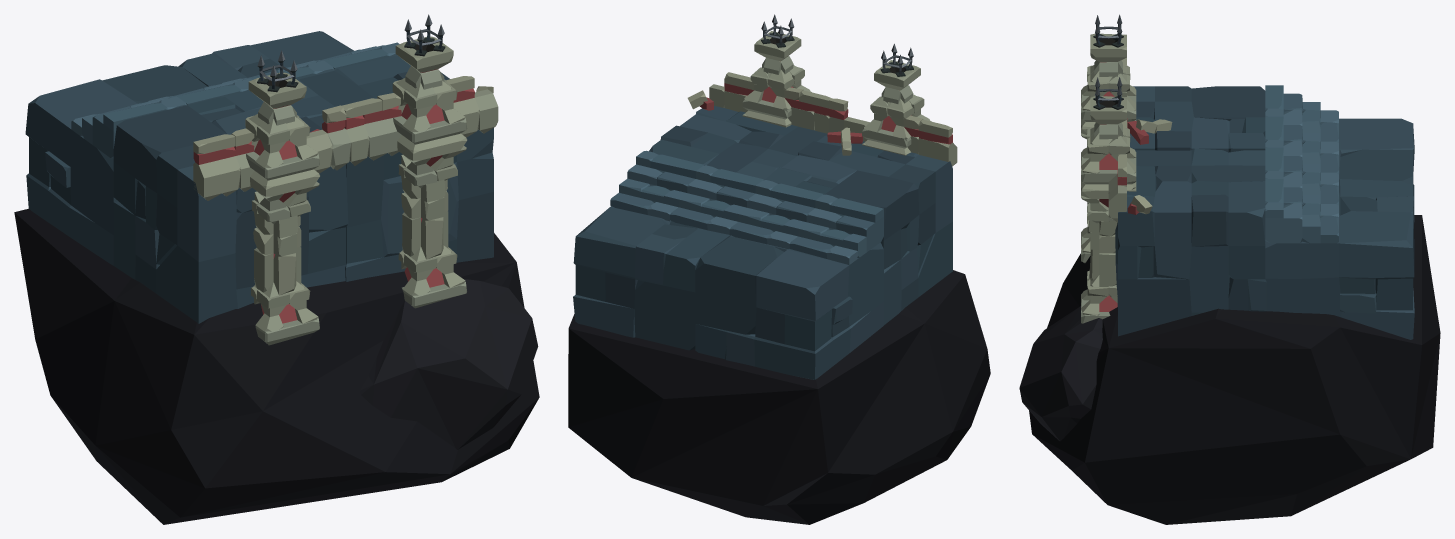
Rendered from platform_edge_01.fbx.
3 views of the same model, side by side, from view 1: azimuth 30°, elevation 25°; view 2: azimuth 150°, elevation 25°; view 3: azimuth 270°, elevation 25° (orthographic). The views are drawn at different scales.
Parts seen in each view (by area): view 1: platform_edge_01; view 2: platform_edge_01; view 3: platform_edge_01.
Part boxes in pixels (x1,y1,x2,y2): platform_edge_01: (14, 14, 539, 524); platform_edge_01: (568, 14, 990, 524); platform_edge_01: (1019, 14, 1440, 524).
Size of the model in its own units: 1041 by 1338 by 1142.
